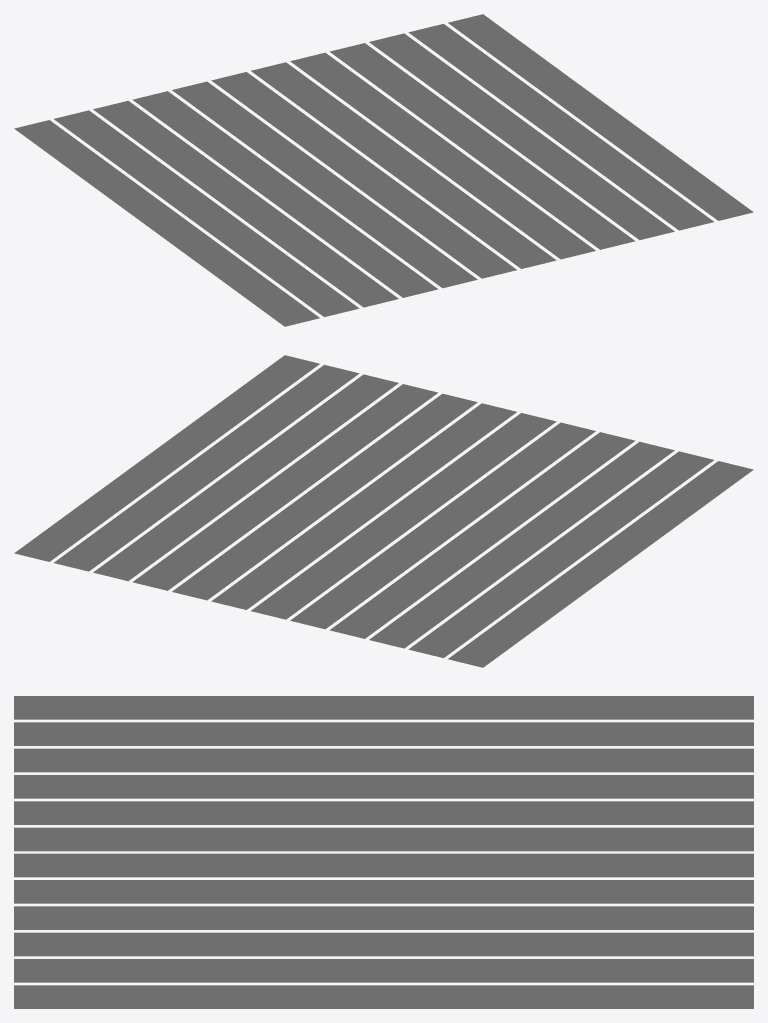
Rendered from wall_004.glb.
3 views of the same model, one above another, from view 1: azimuth 30°, elevation 25°; view 2: azimuth 150°, elevation 25°; view 3: azimuth 270°, elevation 25° (orthographic). The views are drawn at different scales.
Visible parts, largest first — view 1: wall_004; view 2: wall_004; view 3: wall_004.
Part boxes in pixels (x1=…): wall_004: x1=14, y1=14, x2=753, y2=326; wall_004: x1=14, y1=355, x2=753, y2=667; wall_004: x1=14, y1=696, x2=753, y2=1008.
Bounding box in the file's own units: 4 × 0 × 4.
1 material, 1 textured.
